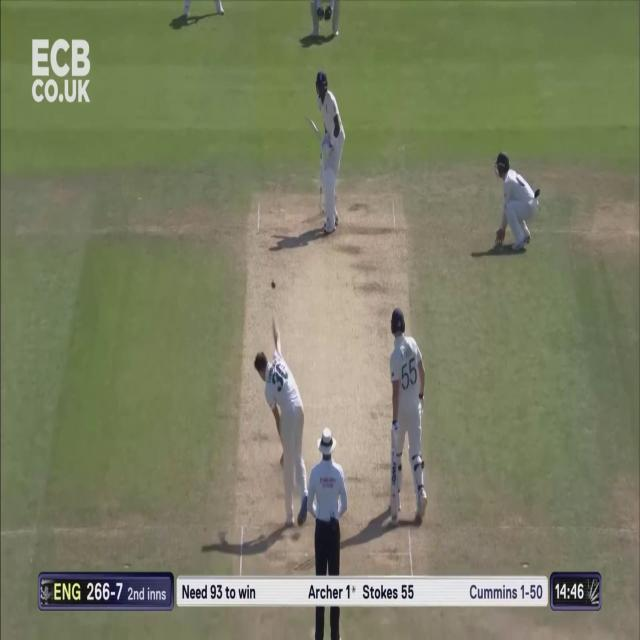Batsman: (303, 58, 355, 239)
